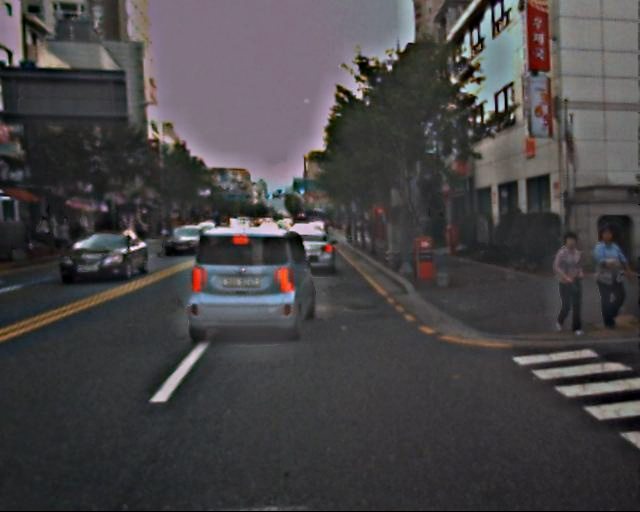person: (577, 227, 630, 338), (543, 230, 590, 335)
